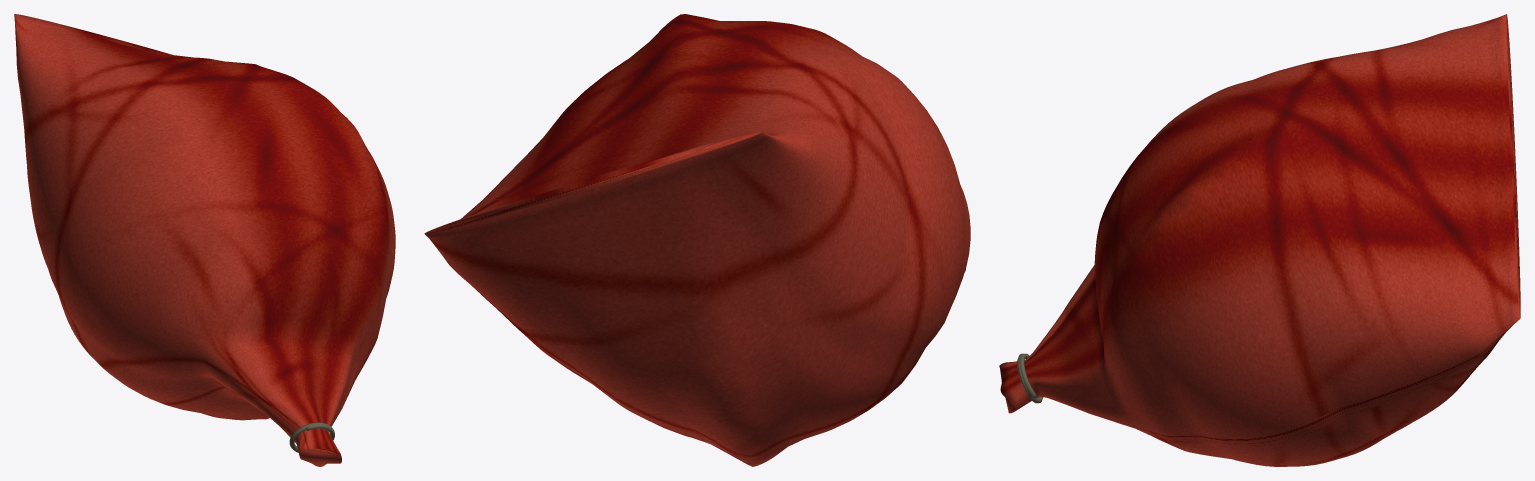
The model's file is peach_01_035.glb.
The picture shows the model from 3 angles, left to right: view 1: azimuth 30°, elevation 25°; view 2: azimuth 150°, elevation 25°; view 3: azimuth 270°, elevation 25°; orthographic projection. The views are drawn at different scales.
Visible parts, largest first — view 1: export_Tree01/shoot3_10_1/bag, export_Tree01/shoot3_10_1/bag/tie; view 2: export_Tree01/shoot3_10_1/bag; view 3: export_Tree01/shoot3_10_1/bag.
Part boxes in pixels (box(x1,y1,x2,y2)): export_Tree01/shoot3_10_1/bag: box(14, 14, 395, 466); export_Tree01/shoot3_10_1/bag/tie: box(289, 422, 334, 452); export_Tree01/shoot3_10_1/bag: box(424, 14, 970, 466); export_Tree01/shoot3_10_1/bag: box(999, 14, 1520, 466).
Size of the model in its own units: 0.0885 by 0.0936 by 0.1142.
Materials: 4 (1 with a texture image).
